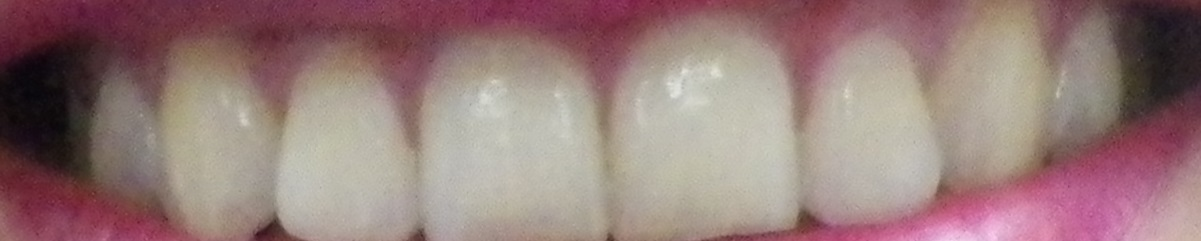boca: (52, 14, 1141, 236)
